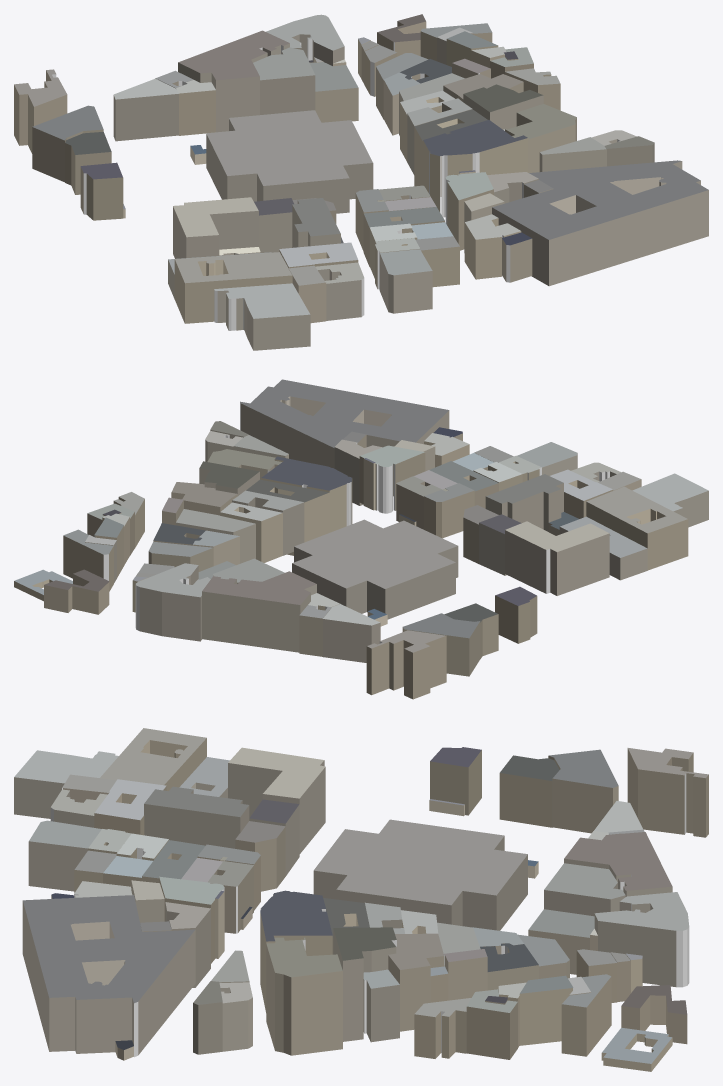
3 views of the same model, one above another, from view 1: azimuth 30°, elevation 25°; view 2: azimuth 150°, elevation 25°; view 3: azimuth 270°, elevation 25° (orthographic). The views are drawn at different scales.
Parts seen in each view (by area): view 1: tuile; view 2: tuile; view 3: tuile.
Boxes of the visible parts, <box> form: tuile: <box>14,14,708,350</box>; tuile: <box>14,379,708,699</box>; tuile: <box>14,728,708,1071</box>.
Size of the model in its own units: 288 by 40.12 by 286.
